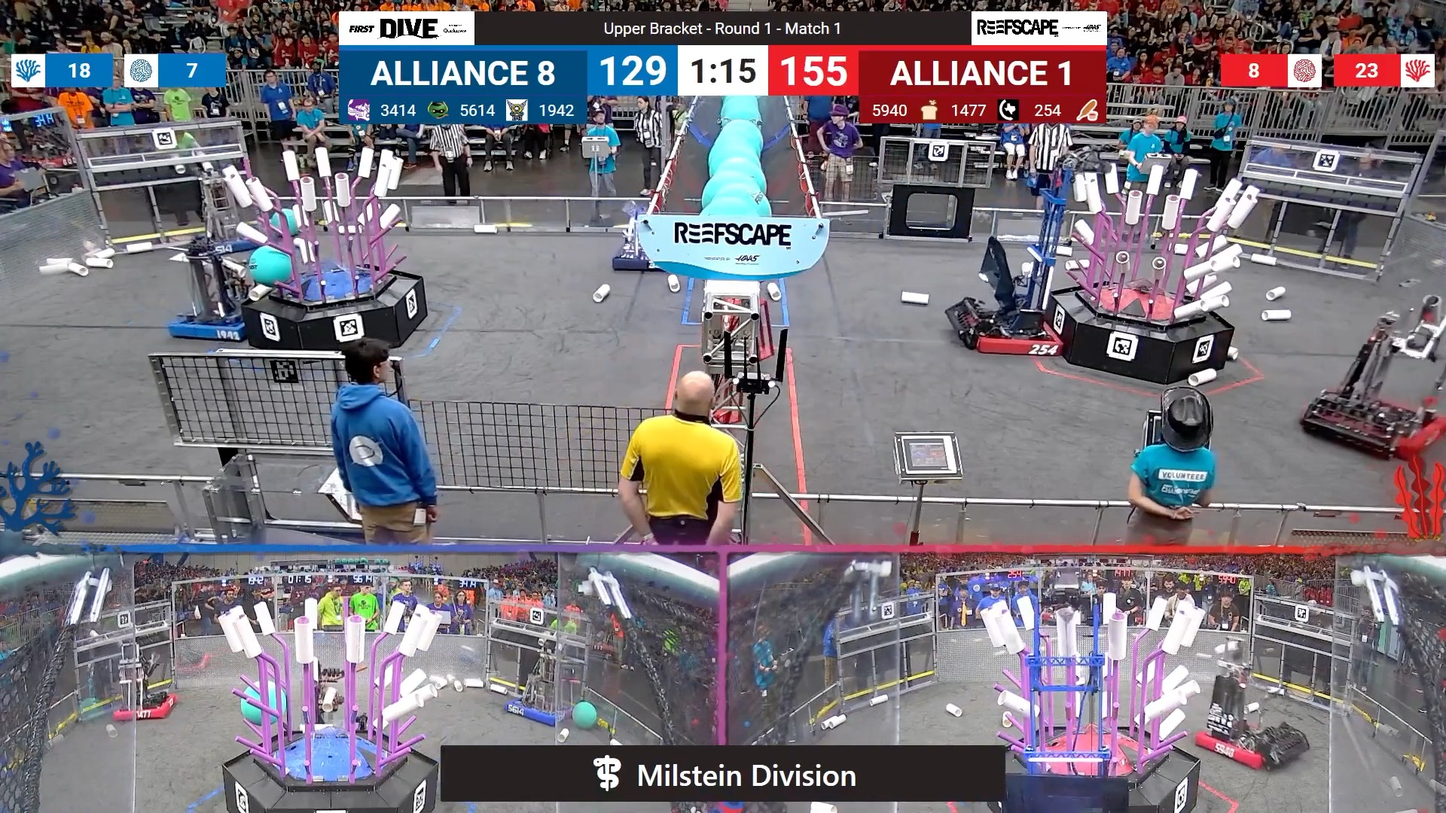bumpers: (1290, 391, 1441, 462), (952, 305, 1076, 362), (1183, 721, 1308, 775), (164, 298, 254, 345), (502, 694, 583, 730), (110, 694, 182, 725), (606, 243, 670, 275)
